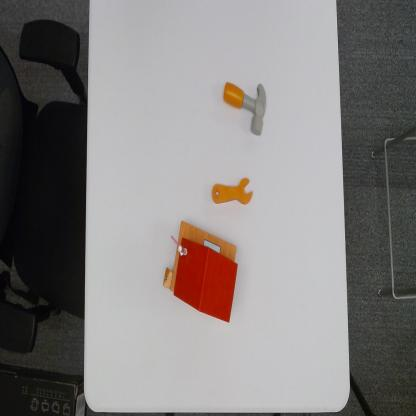Hammer: (223, 79, 268, 138)
House: (161, 216, 239, 324)
Screwdriver: (211, 177, 254, 207)
